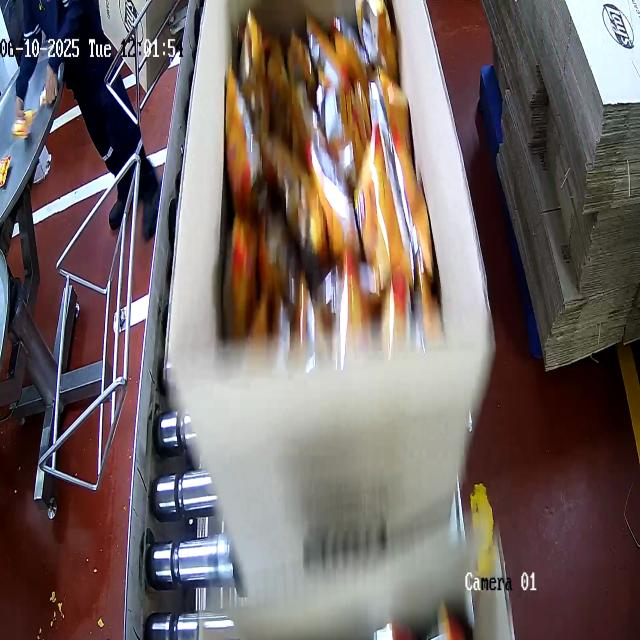FRENCH_CHEESE: (225, 5, 412, 347)
